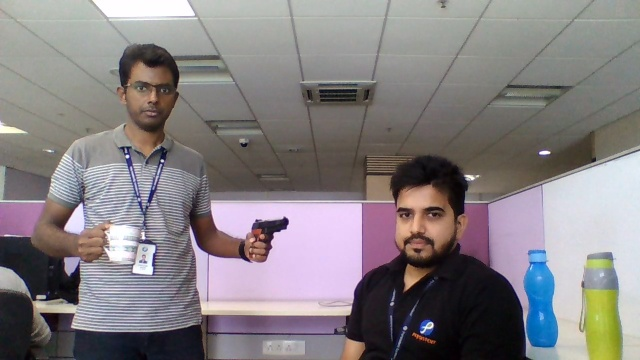gun: (251, 216, 289, 232)
